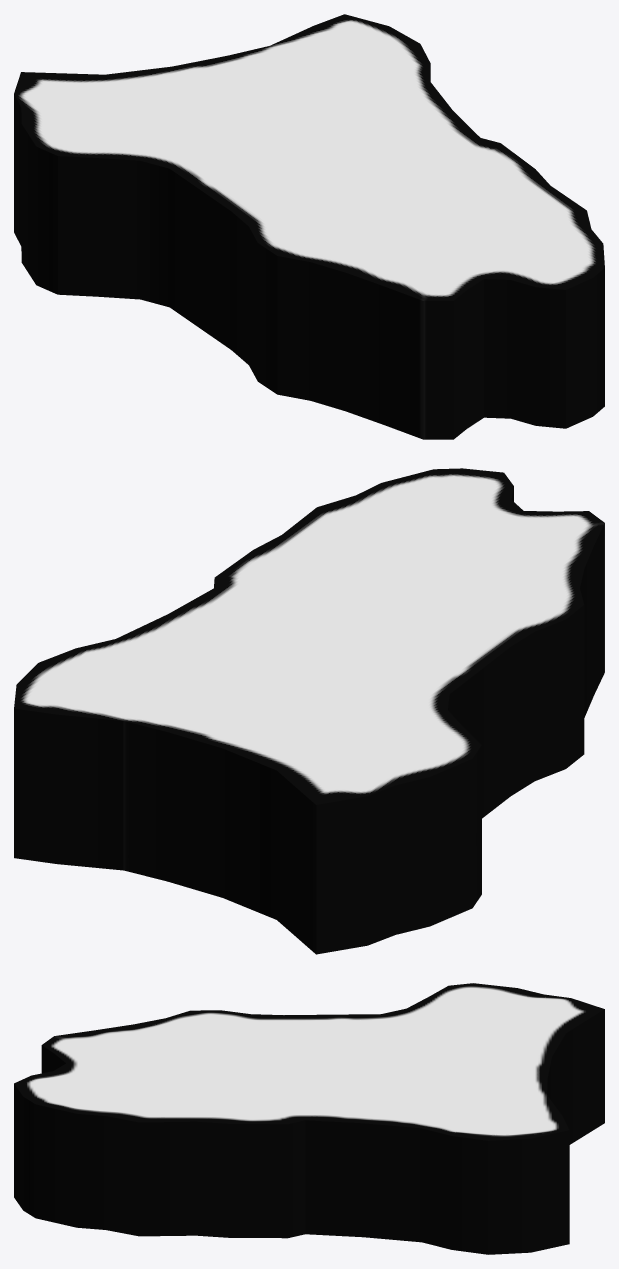
3 renders of one model, top to bottom at view 1: azimuth 30°, elevation 25°; view 2: azimuth 150°, elevation 25°; view 3: azimuth 270°, elevation 25°, orthographic. The views are drawn at different scales.
Parts seen in each view (by area): view 1: polySurface2; view 2: polySurface2; view 3: polySurface2.
Boxes of the visible parts, x1=… form: polySurface2: x1=14, y1=14, x2=604, y2=439; polySurface2: x1=14, y1=468, x2=604, y2=954; polySurface2: x1=14, y1=983, x2=604, y2=1254.
Size of the model in its own units: 1.48 by 0.5 by 2.35.
